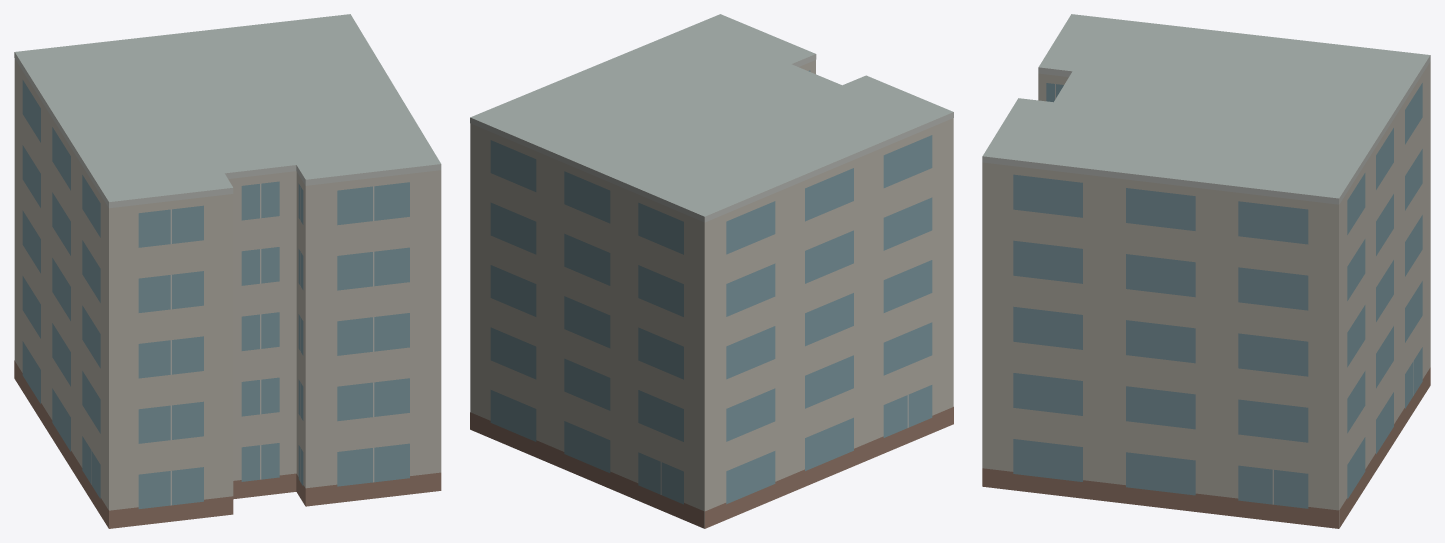
The model's file is survey-upis-32831626.glb.
3 renders of one model, left to right at view 1: azimuth 30°, elevation 25°; view 2: azimuth 150°, elevation 25°; view 3: azimuth 270°, elevation 25°, orthographic. The views are drawn at different scales.
Visible parts, largest first — view 1: survey-upis-32831626.tmp; view 2: survey-upis-32831626.tmp; view 3: survey-upis-32831626.tmp.
Part boxes in pixels (x1,y1,x2,y2): survey-upis-32831626.tmp: (14,14,441,528); survey-upis-32831626.tmp: (470,14,953,528); survey-upis-32831626.tmp: (982,14,1430,528).
Size of the model in its own units: 15.58 by 13 by 15.99.
